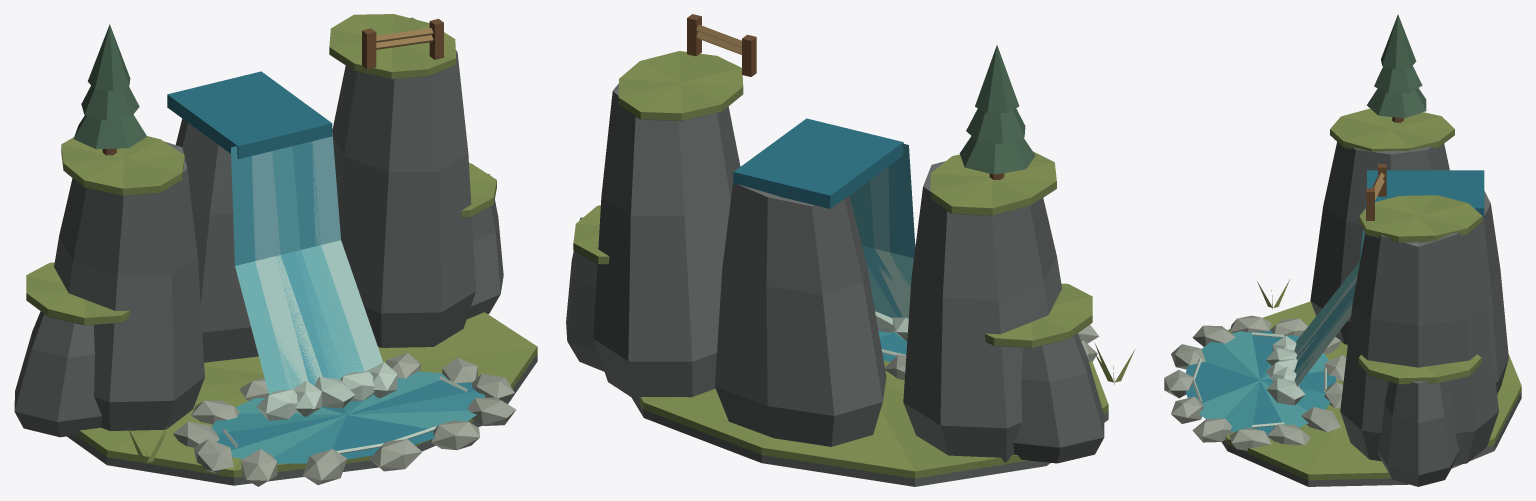
The picture shows the model from 3 angles, left to right: view 1: azimuth 30°, elevation 25°; view 2: azimuth 150°, elevation 25°; view 3: azimuth 270°, elevation 25°; orthographic projection. The views are drawn at different scales.
Visible parts, largest first — view 1: S05_瀑布崖台; view 2: S05_瀑布崖台; view 3: S05_瀑布崖台.
Part boxes in pixels (x1=…): S05_瀑布崖台: x1=14, y1=14, x2=537, y2=486; S05_瀑布崖台: x1=566, y1=14, x2=1134, y2=486; S05_瀑布崖台: x1=1164, y1=14, x2=1521, y2=486.
Size of the model in its own units: 5.27 by 3.87 by 3.89.
